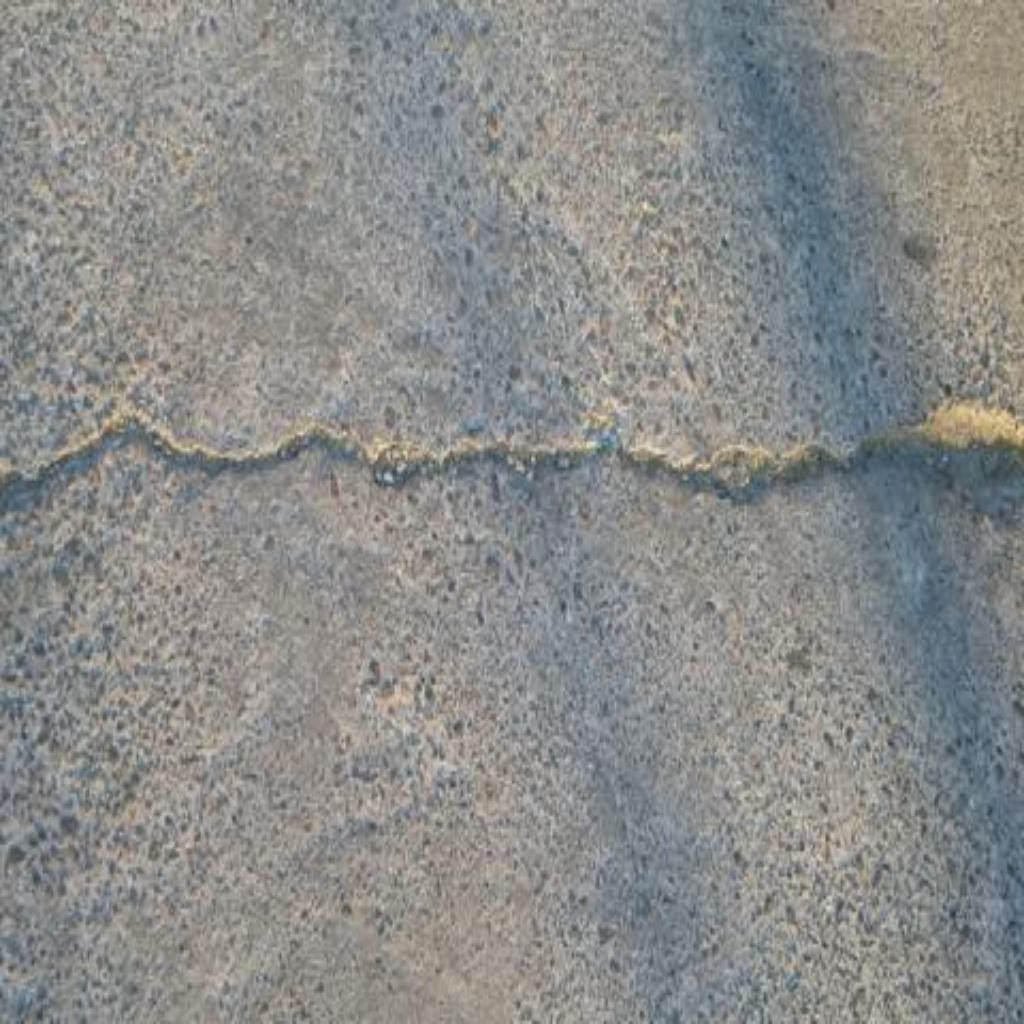Crack: (1, 397, 1024, 510)
